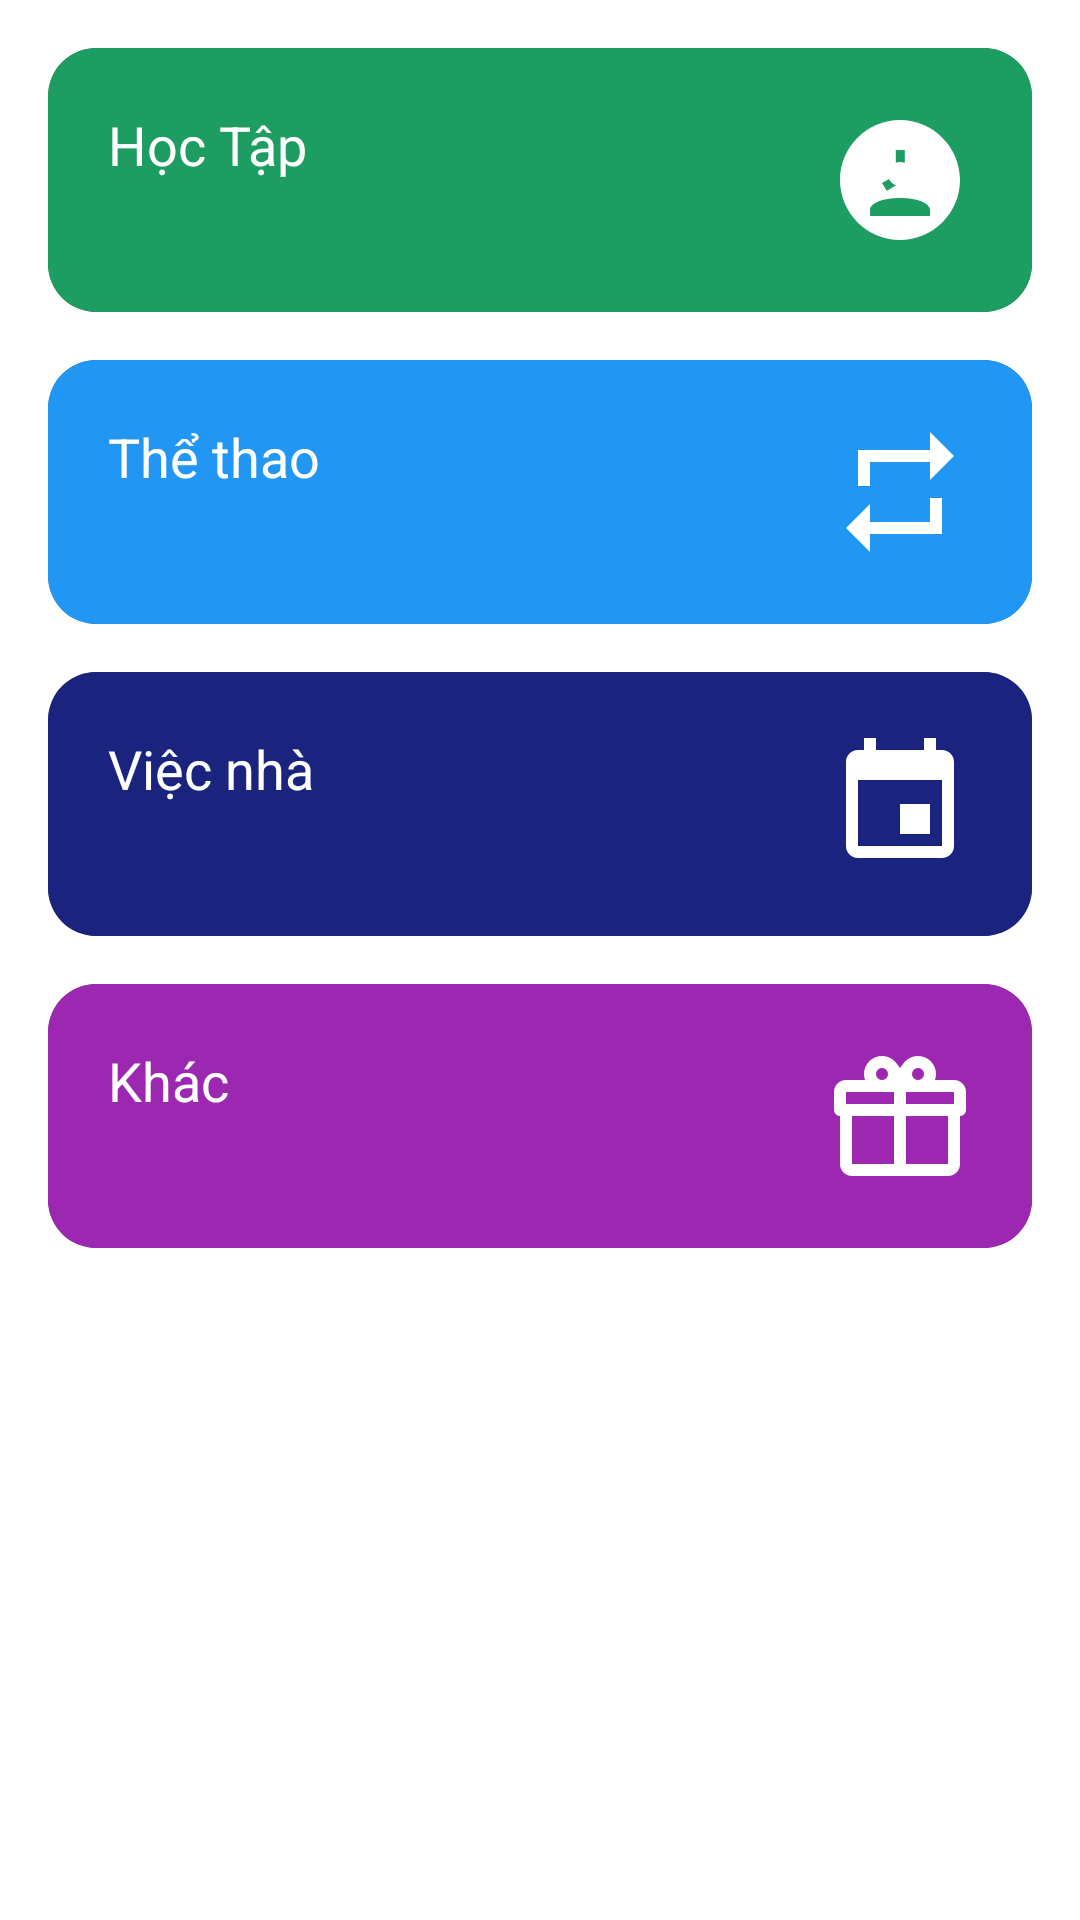

Named icons in this screenshot (1080*1920) and their bounding boxes, rect(x1, y1, x2, y2):
calendar: rect(846, 738, 954, 858)
gift: rect(834, 1056, 966, 1176)
